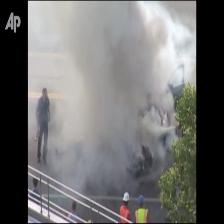smoke: (65, 8, 154, 158)
